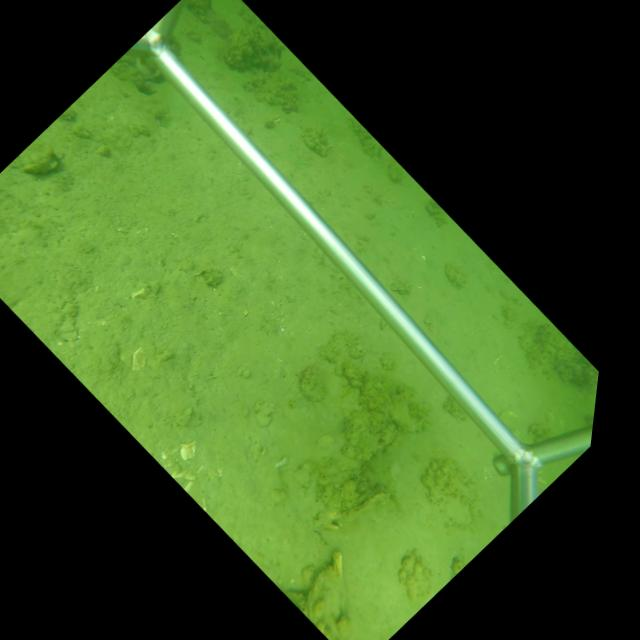Oyster-Closed: (304, 557, 346, 627), (338, 486, 391, 519)
Oyster-Indeterminate: (15, 149, 58, 175)
